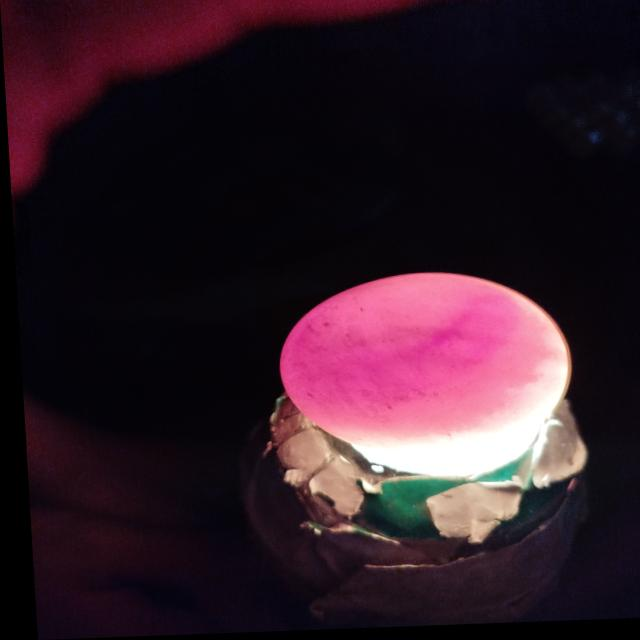Gema Quebrada: (276, 276, 520, 410)
